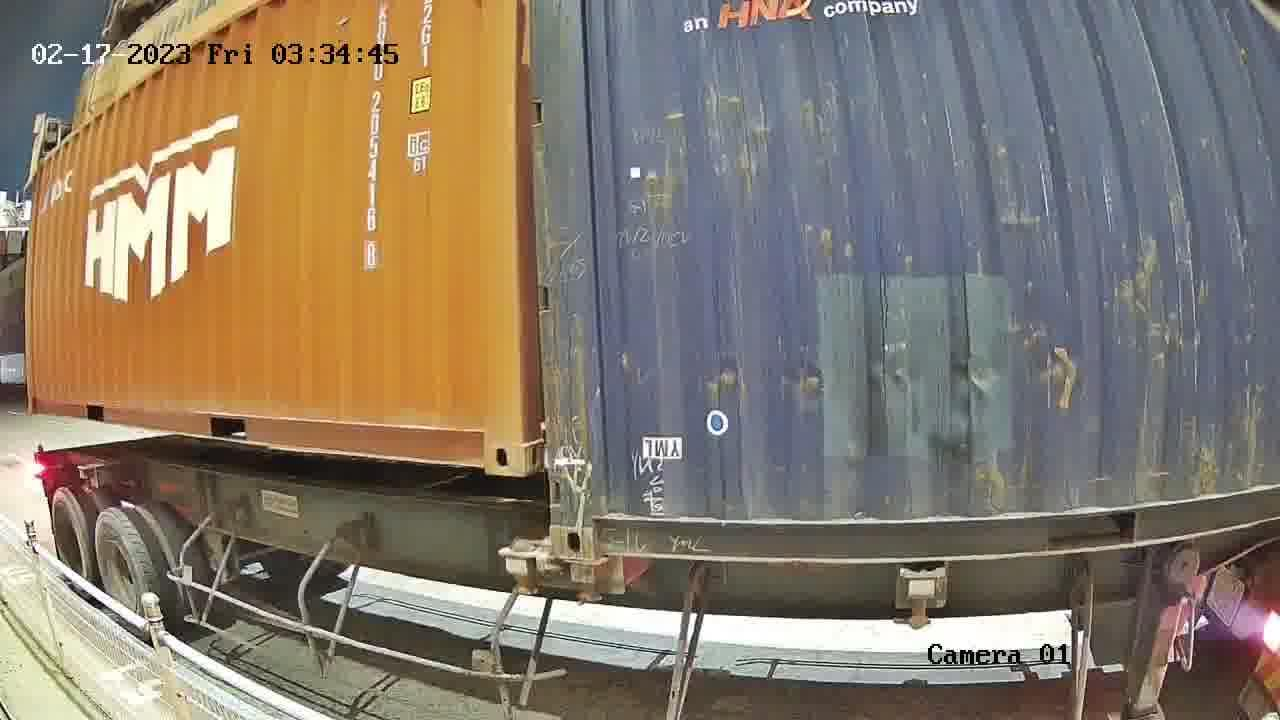Cone: (499, 538, 541, 596)
Hole_L: (549, 492, 639, 558)
Hole_R: (453, 410, 521, 479), (561, 560, 611, 606)
Tire: (97, 511, 149, 631), (53, 490, 93, 591)
